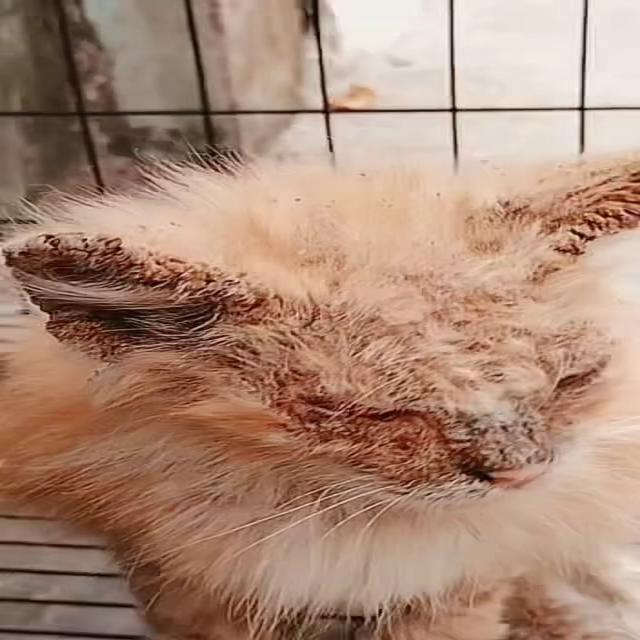cat-scabies: (5, 232, 260, 360), (496, 147, 640, 261), (281, 394, 446, 492)
